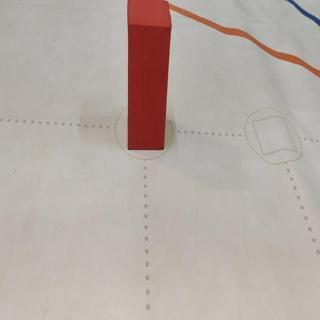redbox: (125, 1, 171, 152)
